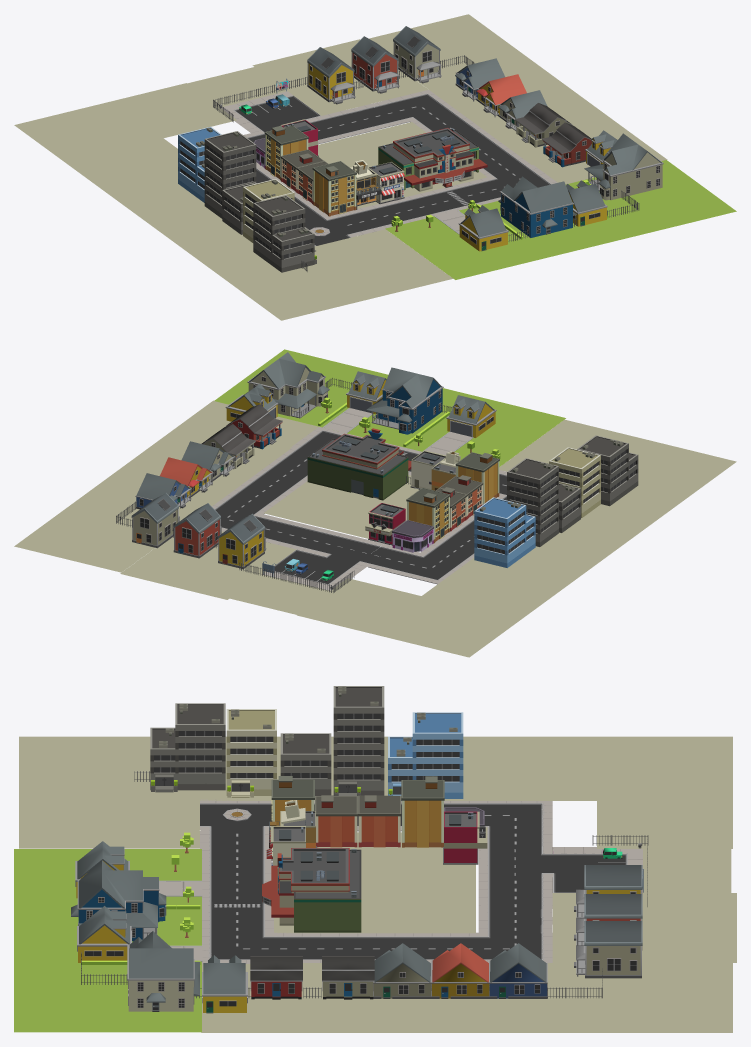
Rendered from town.fbx.
3 renders of one model, top to bottom at view 1: azimuth 30°, elevation 25°; view 2: azimuth 150°, elevation 25°; view 3: azimuth 270°, elevation 25°, orthographic. The views are drawn at different scales.
Visible parts, largest first — view 1: grass_square_mesh, gravel_square_mesh_(7), gravel_square_mesh_(1), gravel_square_mesh_(2), gravel_square_mesh_(4), Building_Cinema, Building_OfficeStepped_Grey, gravel_square_mesh_(6), Building_House_07, Building_House_08, Building_OfficeLarge_Grey, gravel_square_mesh_(3) (+25 smaller); view 2: gravel_square_mesh_(7), gravel_square_mesh_(2), gravel_square_mesh_(4), grass_square_mesh, gravel_square_mesh_(1), Building_Cinema, gravel_square_mesh_(6), gravel_square_mesh_(3), Building_OfficeStepped_Blue, Building_House_07, Building_OfficeLarge_Grey, Building_House_08 (+27 smaller); view 3: gravel_square_mesh_(7), grass_square_mesh, gravel_square_mesh_(1), gravel_square_mesh_(4), gravel_square_mesh_(2), gravel_square_mesh_(3), gravel_square_mesh_(6), Building_Cinema, Building_OfficeStepped_Grey, Building_OfficeLarge_Grey, Building_OfficeStepped_Blue, Building_House_08 (+27 smaller).
Boxes of the visible parts, <box> form: grass_square_mesh: <box>385,160,736,279</box>; gravel_square_mesh_(7): <box>369,14,667,184</box>; gravel_square_mesh_(1): <box>214,229,452,320</box>; gravel_square_mesh_(2): <box>64,137,262,270</box>; gravel_square_mesh_(4): <box>14,83,236,161</box>; Building_Cinema: <box>378,128,487,191</box>; Building_OfficeStepped_Grey: <box>253,195,316,272</box>; gravel_square_mesh_(6): <box>252,39,428,115</box>; Building_House_07: <box>498,176,576,237</box>; Building_House_08: <box>584,133,663,200</box>; Building_OfficeLarge_Grey: <box>204,131,256,218</box>; gravel_square_mesh_(3): <box>318,122,486,208</box>; gravel_square_mesh_(7): <box>14,400,318,572</box>; gravel_square_mesh_(2): <box>421,499,668,620</box>; gravel_square_mesh_(4): <box>297,578,518,657</box>; grass_square_mesh: <box>214,349,565,466</box>; gravel_square_mesh_(1): <box>499,419,736,511</box>; Building_Cinema: <box>307,428,411,500</box>; gravel_square_mesh_(6): <box>120,531,296,599</box>; gravel_square_mesh_(3): <box>264,475,419,538</box>; Building_OfficeStepped_Blue: <box>474,497,535,567</box>; Building_House_07: <box>366,367,443,434</box>; Building_OfficeLarge_Grey: <box>507,458,558,546</box>; Building_House_08: <box>247,352,329,418</box>; gravel_square_mesh_(7): <box>201,963,732,1032</box>; grass_square_mesh: <box>14,849,201,1032</box>; gravel_square_mesh_(1): <box>19,736,199,848</box>; gravel_square_mesh_(4): <box>597,736,732,848</box>; gravel_square_mesh_(2): <box>200,736,599,800</box>; gravel_square_mesh_(3): <box>274,832,475,933</box>; gravel_square_mesh_(6): <box>552,893,736,962</box>; Building_Cinema: <box>262,848,361,932</box>; Building_OfficeStepped_Grey: <box>150,703,225,792</box>; Building_OfficeLarge_Grey: <box>333,686,384,795</box>; Building_OfficeStepped_Blue: <box>388,712,463,800</box>; Building_House_08: <box>127,931,199,1011</box>.
Bounding box in the file's own units: 18886 × 2744 × 19479.
193 materials, 193 textured.
